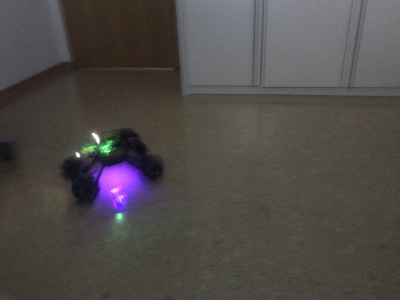remote control car: (59, 125, 166, 204)
